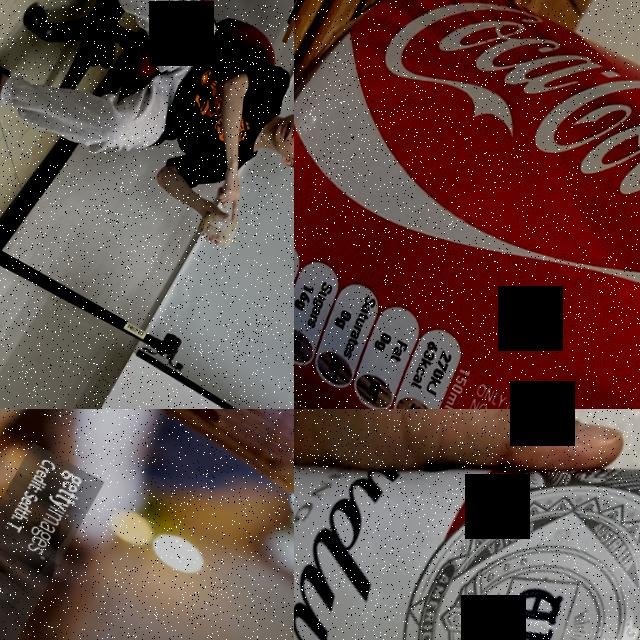can: (294, 0, 640, 409), (294, 409, 640, 640)
cup: (0, 409, 294, 599), (193, 203, 244, 251)
